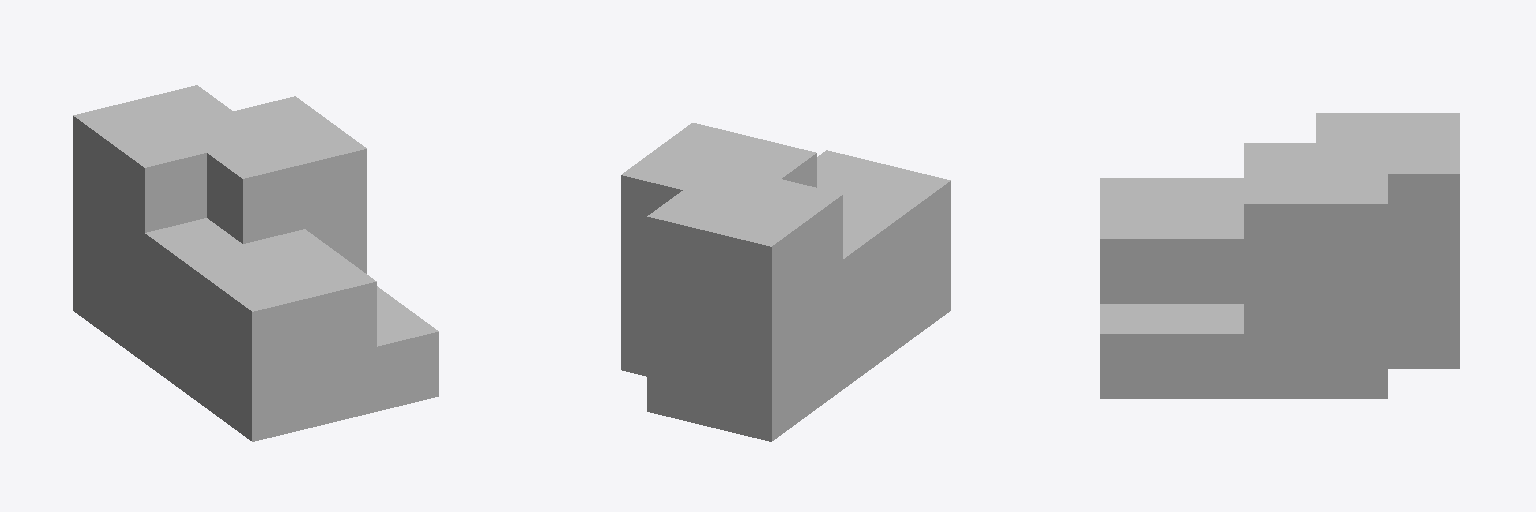
The model's file is Arbusto 1.obj.
The picture shows the model from 3 angles: view 1: azimuth 30°, elevation 25°; view 2: azimuth 150°, elevation 25°; view 3: azimuth 270°, elevation 25°; orthographic projection.
Visible parts, largest first — view 1: object 1; view 2: object 1; view 3: object 1.
Boxes of the visible parts, x1,y1,x2,y2 form: object 1: [73, 85, 438, 441]; object 1: [621, 123, 950, 441]; object 1: [1100, 113, 1459, 398].
Bounding box in the file's own units: 0.3 × 0.3 × 0.5.